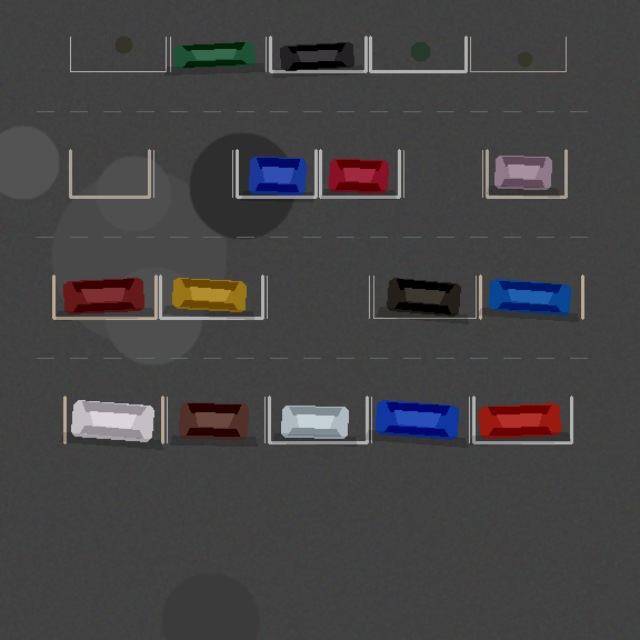space-empty: (267, 276, 369, 318), (70, 150, 149, 197), (153, 150, 232, 197), (403, 150, 482, 197), (70, 37, 166, 71), (370, 37, 466, 71), (470, 37, 566, 71)
space-occupied: (64, 397, 162, 442), (269, 397, 367, 442), (371, 397, 469, 442), (473, 397, 571, 442), (167, 397, 264, 442), (53, 276, 156, 318), (373, 276, 476, 318), (160, 276, 262, 318), (480, 276, 582, 318), (237, 150, 316, 197), (320, 150, 399, 197), (487, 150, 566, 197), (170, 37, 266, 71), (270, 37, 366, 71)
